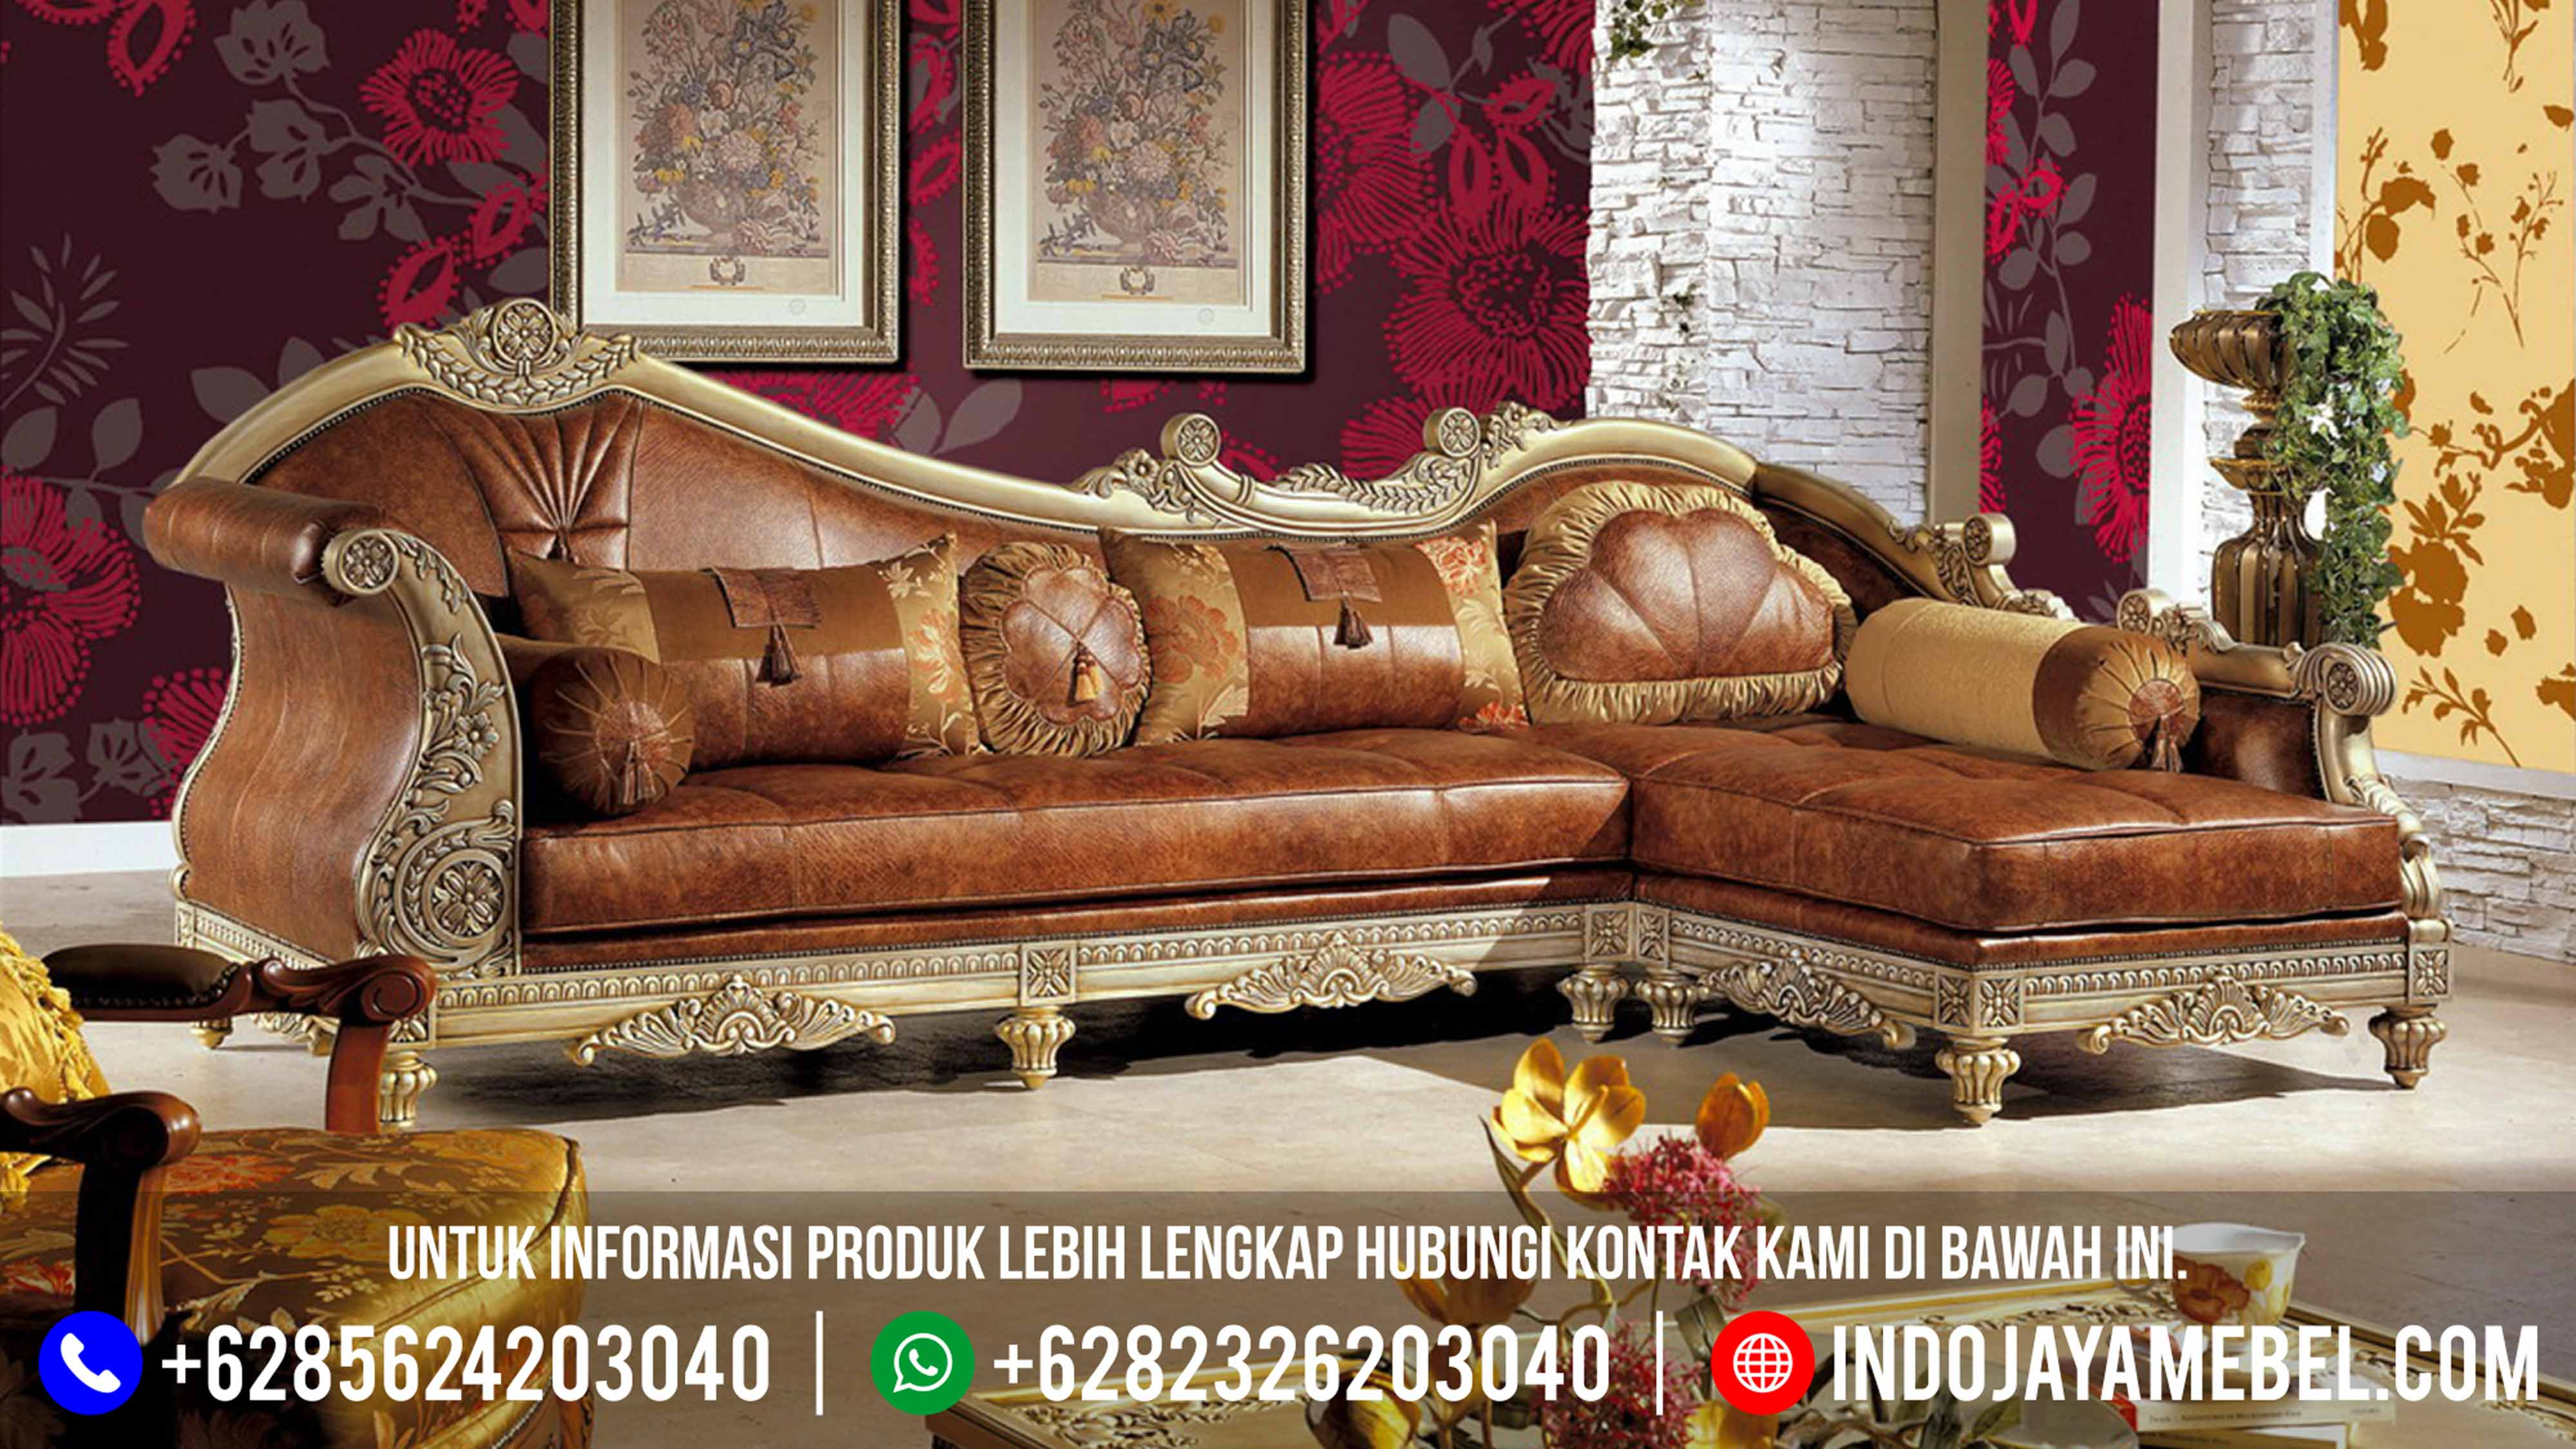Carving Chair: (161, 326, 2493, 1217)
